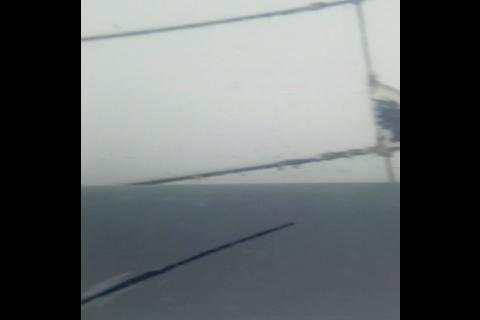keretakan: (80, 220, 300, 310)
